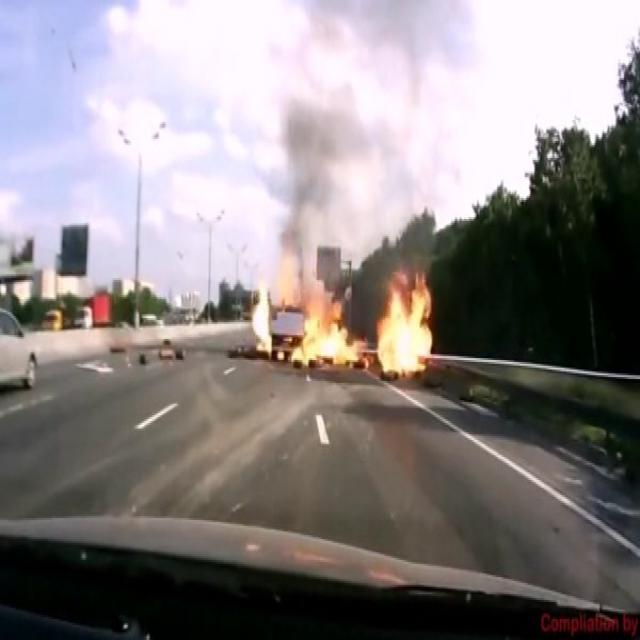fire: (290, 259, 436, 379), (250, 274, 274, 360)
